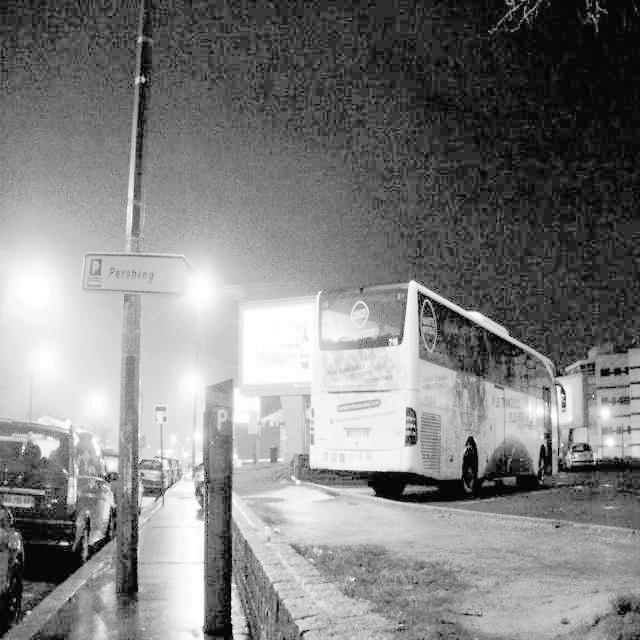Bus: (310, 280, 565, 510)
Car: (0, 398, 86, 596), (83, 418, 135, 551), (134, 444, 191, 502)
